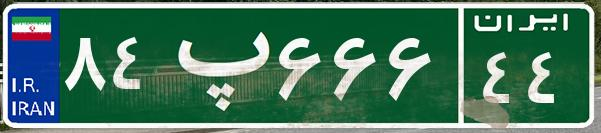4: (475, 38, 525, 113), (110, 28, 158, 105), (525, 38, 570, 115)
6: (385, 28, 445, 110), (273, 28, 330, 110), (330, 28, 385, 110)
8: (57, 26, 110, 107)
پ: (158, 15, 273, 115)
